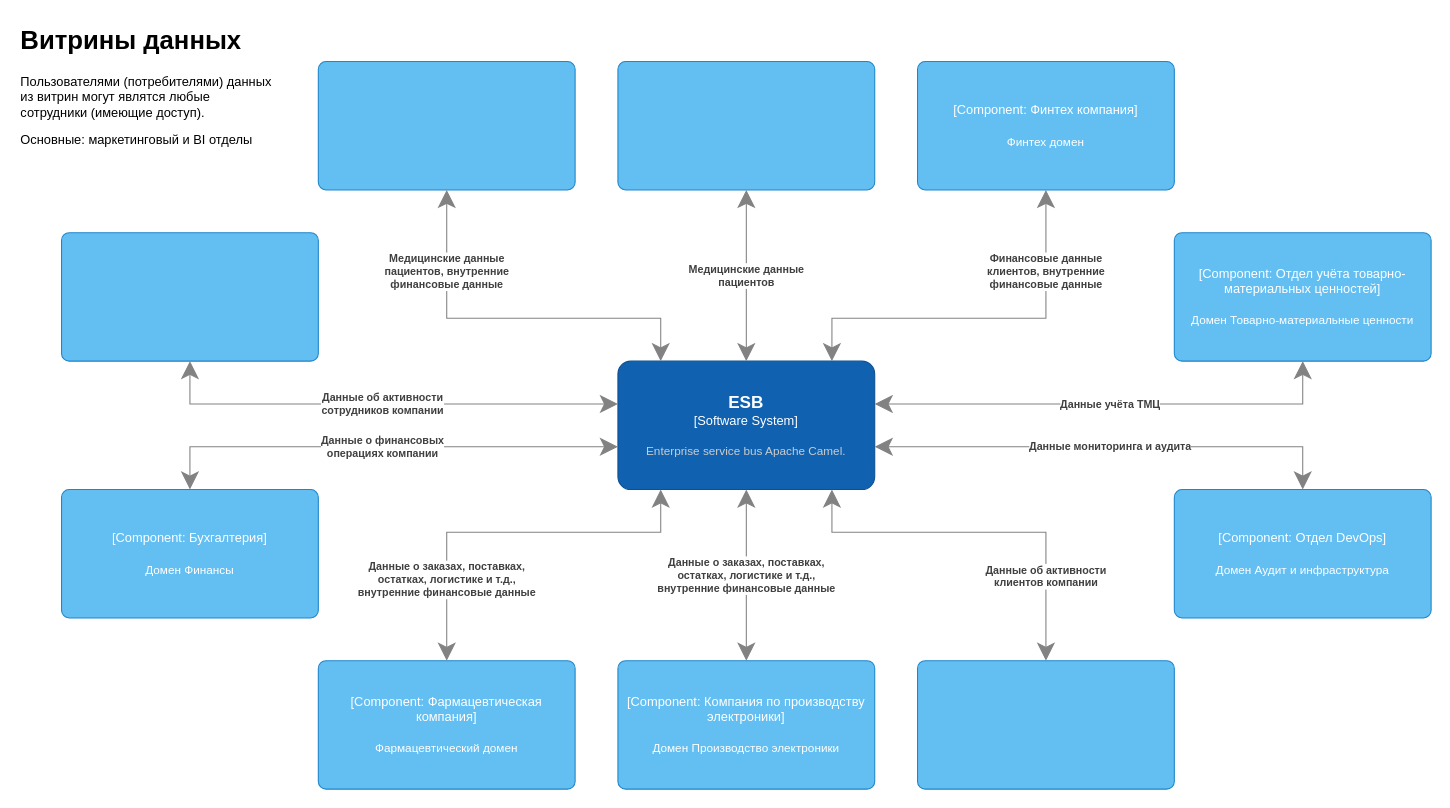
The diagram is 1450 pixels wide and 808 high, and some of its shapes have lost their labels. The centre of each missing label's shape, as x and y in pixels:
"[Component: Внутренняя CRM система] Домен Сотрудники" goes at point (189, 296).
"[Component: Медицинская компания] Медицинский клинический домен" goes at point (446, 125).
"[Component: Медицинский AI отдел] Медицинский AI домен" goes at point (746, 125).
"[Component: Общая CRM система] Домен Клиенты" goes at point (1045, 724).
